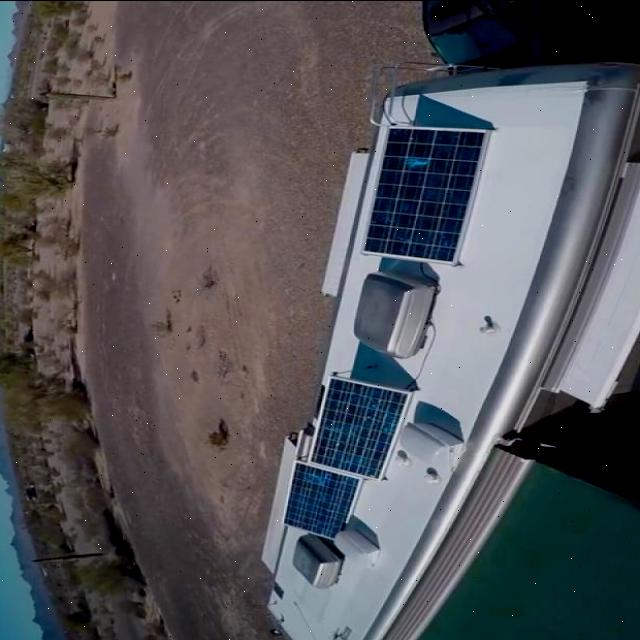Normal Solar Panel: (362, 127, 488, 263), (310, 379, 410, 479), (283, 462, 361, 540)
